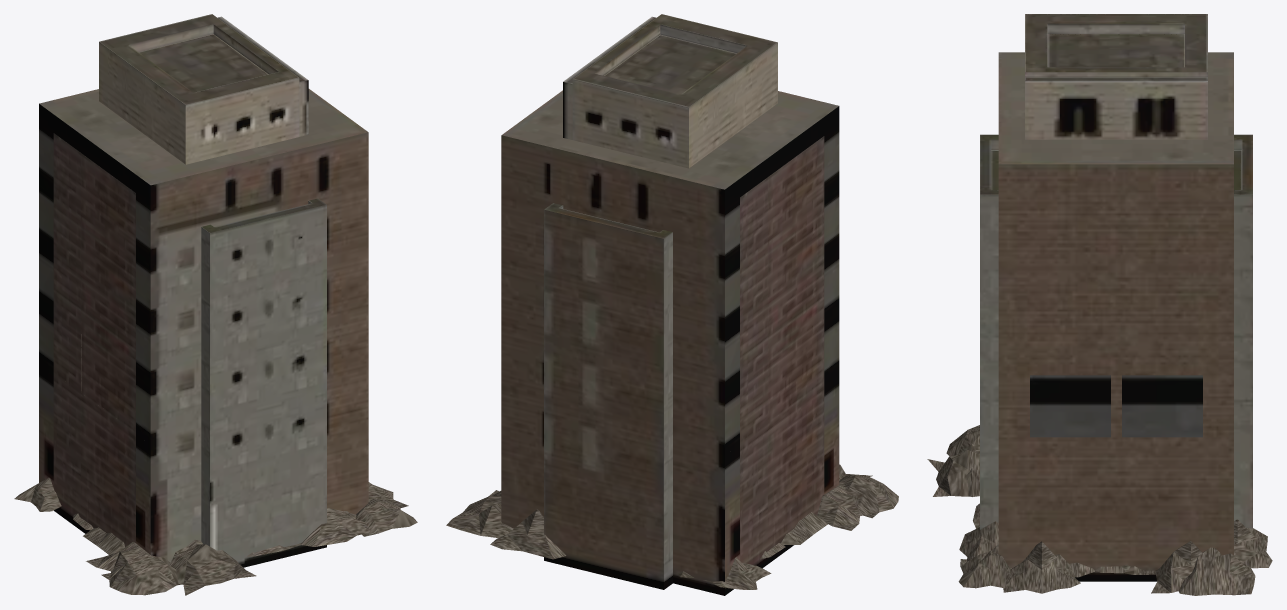
File: suburbio-ruinas.glb
The picture shows the model from 3 angles, left to right: view 1: azimuth 30°, elevation 25°; view 2: azimuth 150°, elevation 25°; view 3: azimuth 270°, elevation 25°; orthographic projection. The views are drawn at different scales.
Visible parts, largest first — view 1: m03, m11, m04_andar, m12, m03_andar, m12_andar, m04, m11_andar, m08_andar, m03_topo, m02_topo, m02_andar (+1 smaller); view 2: m03, m11_topo, m04_andar, m12, m03_andar, m11, m04, m12_andar, m05_andar, m02_andar, m02_topo, m04_topo (+1 smaller); view 3: m03_andar, m12, m11_andar, m03, m04, m12_andar, m04_andar, m03_topo, m01_andar, m11, m00_andar, m05_andar (+2 smaller).
Part boxes in pixels (bbox=[...]): m03: bbox=[39, 89, 368, 562]; m11: bbox=[201, 198, 326, 567]; m04_andar: bbox=[53, 133, 135, 546]; m12: bbox=[99, 14, 308, 148]; m03_andar: bbox=[39, 89, 366, 595]; m12_andar: bbox=[107, 15, 356, 519]; m04: bbox=[59, 318, 130, 428]; m11_andar: bbox=[168, 198, 326, 595]; m08_andar: bbox=[301, 508, 370, 546]; m03_topo: bbox=[356, 498, 417, 536]; m02_topo: bbox=[14, 477, 93, 530]; m02_andar: bbox=[86, 541, 170, 571]; m03: bbox=[501, 90, 839, 595]; m11_topo: bbox=[544, 220, 672, 589]; m04_andar: bbox=[446, 136, 824, 567]; m12: bbox=[563, 14, 777, 168]; m03_andar: bbox=[501, 126, 898, 595]; m11: bbox=[544, 203, 672, 288]; m04: bbox=[745, 326, 818, 438]; m12_andar: bbox=[564, 21, 776, 107]; m05_andar: bbox=[490, 509, 566, 559]; m02_andar: bbox=[817, 485, 859, 530]; m02_topo: bbox=[703, 543, 785, 589]; m04_topo: bbox=[781, 503, 872, 544]; m03_andar: bbox=[946, 52, 1233, 581]; m12: bbox=[1025, 14, 1207, 139]; m11_andar: bbox=[927, 153, 1252, 529]; m03: bbox=[998, 52, 1233, 437]; m04: bbox=[1041, 375, 1202, 435]; m12_andar: bbox=[991, 14, 1207, 554]; m04_andar: bbox=[1030, 375, 1255, 595]; m03_topo: bbox=[958, 375, 1222, 588]; m01_andar: bbox=[1003, 541, 1080, 593]; m11: bbox=[980, 134, 1252, 431]; m00_andar: bbox=[1151, 541, 1202, 593]; m05_andar: bbox=[1234, 519, 1272, 568].
Size of the model in its own units: 23.52 by 32.62 by 21.26.
Materials: 1 (1 with a texture image).
